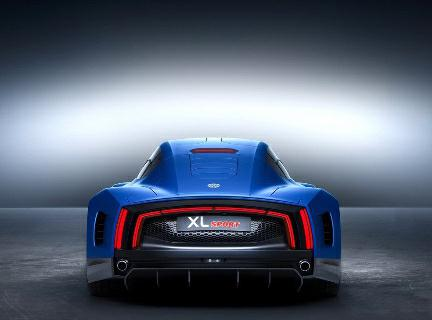大众-XL: (80, 130, 352, 306)
